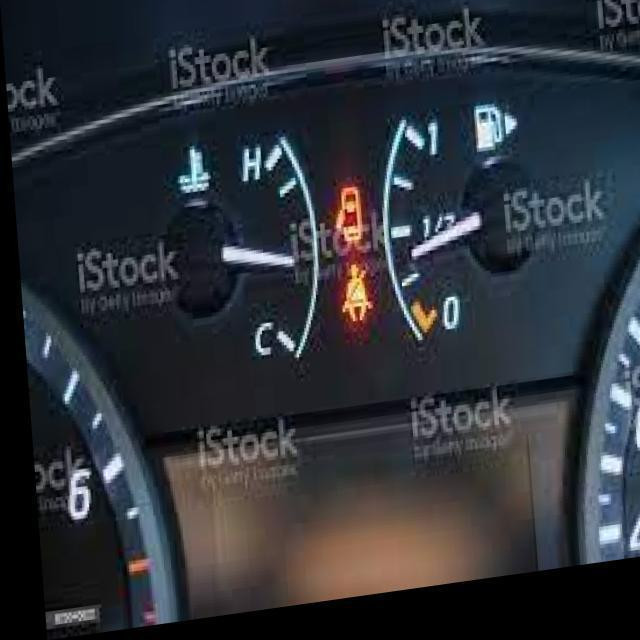Seat Belt: (342, 262, 376, 324)
